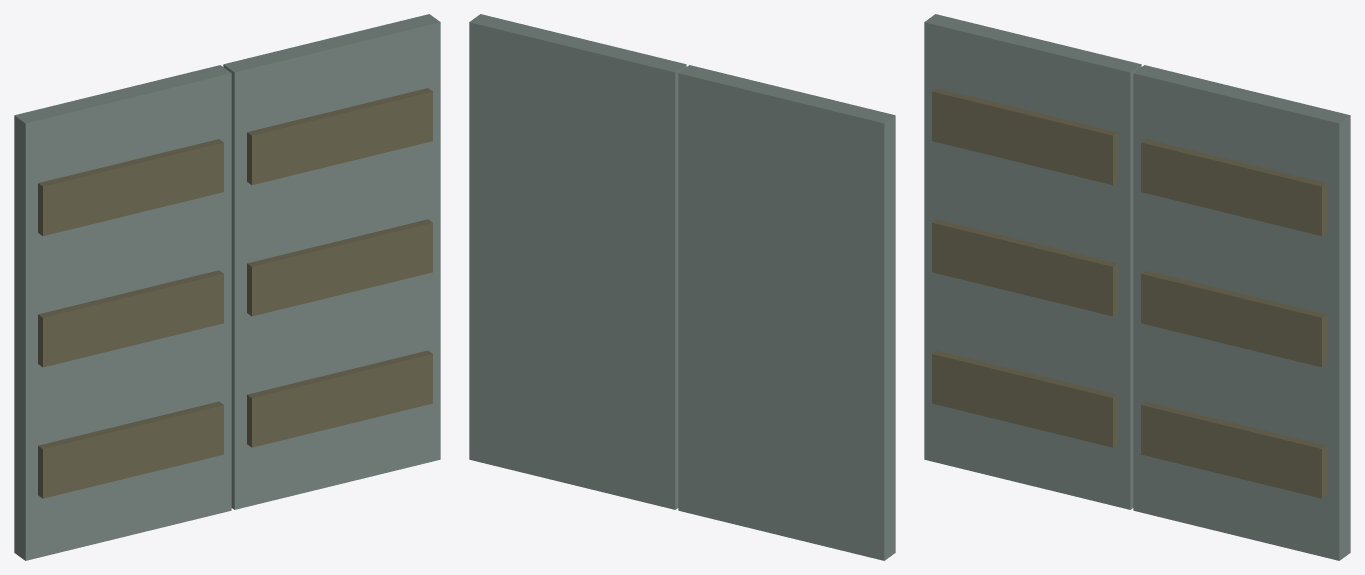
File: SM_Polvorin_v0_LOD1.fbx
3 renders of one model, left to right at view 1: azimuth 30°, elevation 25°; view 2: azimuth 150°, elevation 25°; view 3: azimuth 330°, elevation 25°, orthographic.
Parts seen in each view (by area): view 1: Puerta_O, Puerta_E; view 2: Puerta_O, Puerta_E; view 3: Puerta_E, Puerta_O.
Boxes of the visible parts, <box> form: Puerta_O: <box>14,65,231,560</box>; Puerta_E: <box>223,14,440,509</box>; Puerta_O: <box>678,65,895,560</box>; Puerta_E: <box>469,14,686,509</box>; Puerta_E: <box>1133,65,1350,560</box>; Puerta_O: <box>924,14,1141,509</box>.
Size of what is drawn, in the model's own units: 2.98 by 3 by 0.2.
